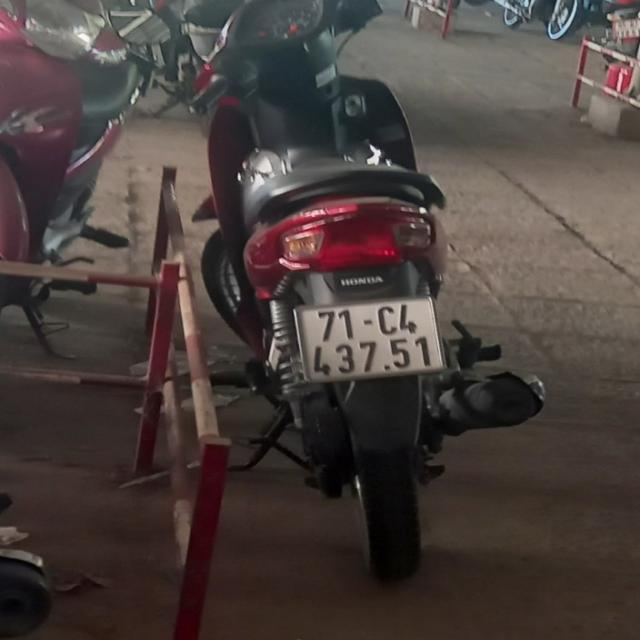1: (413, 335, 431, 367), (339, 310, 355, 339)
3: (335, 344, 356, 373)
4: (312, 346, 334, 377), (398, 303, 417, 333)
5: (390, 338, 410, 368)
7: (316, 310, 335, 340), (358, 341, 376, 372)
C: (376, 306, 397, 336)
